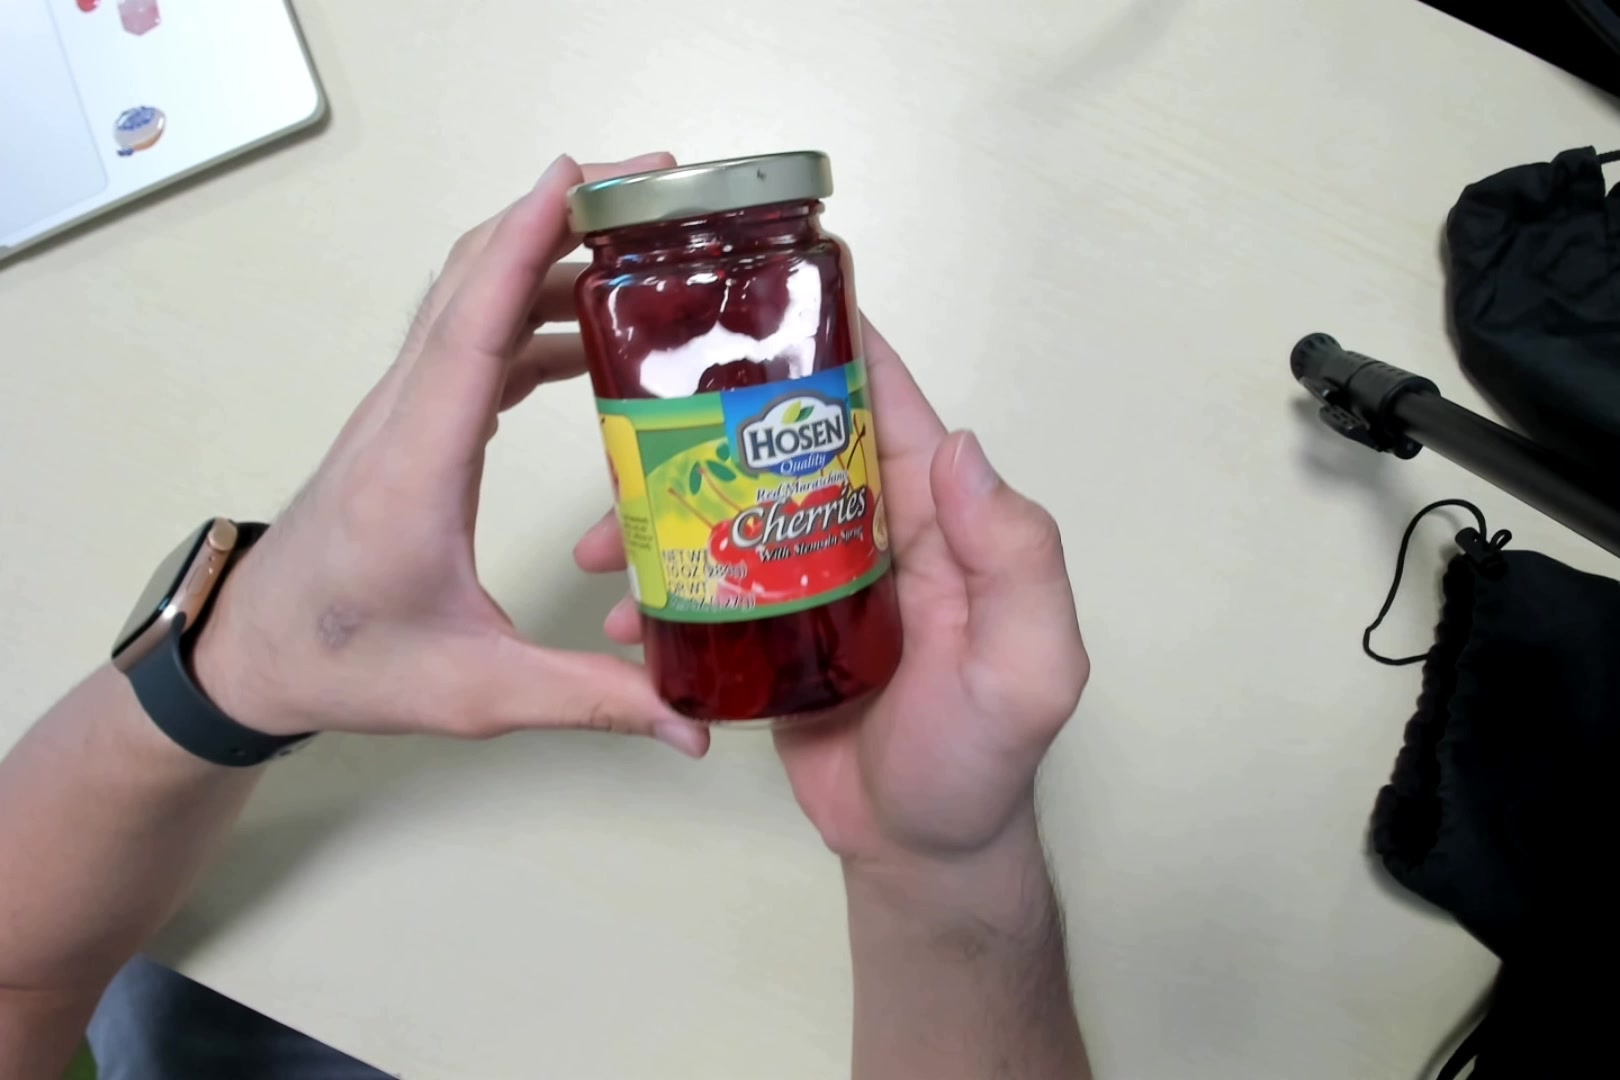OtherBakingNeeds_200-299g_NonHalal_NonHealthy: (571, 149, 911, 723)
